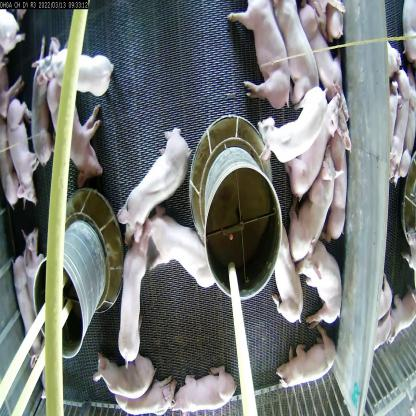Pig: (35, 24, 119, 112), (227, 0, 295, 107), (118, 124, 184, 232), (0, 70, 54, 192), (272, 313, 341, 407), (138, 209, 219, 286), (283, 159, 338, 265), (264, 66, 322, 166), (292, 94, 345, 199), (42, 80, 94, 172), (86, 332, 153, 402), (112, 236, 150, 356), (270, 0, 316, 94), (322, 113, 354, 235), (272, 228, 302, 334), (117, 357, 167, 415), (172, 367, 232, 415), (14, 248, 42, 346), (306, 248, 343, 322), (0, 124, 21, 215)
